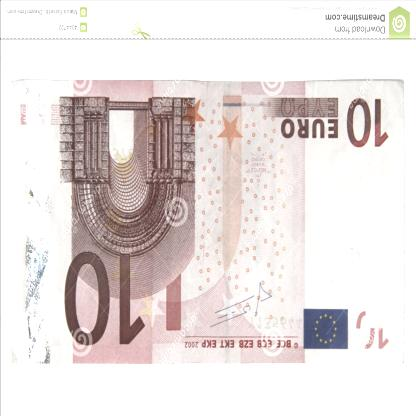euro_banknote: (12, 81, 406, 366)
